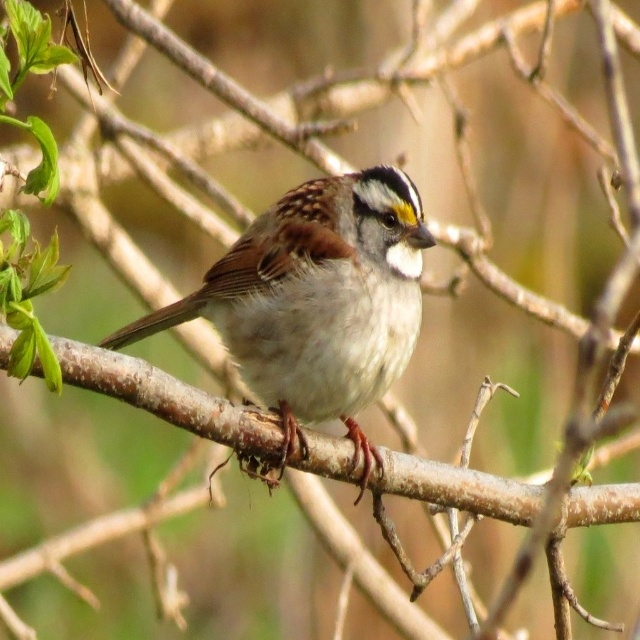Sparrow: (96, 160, 444, 512)
